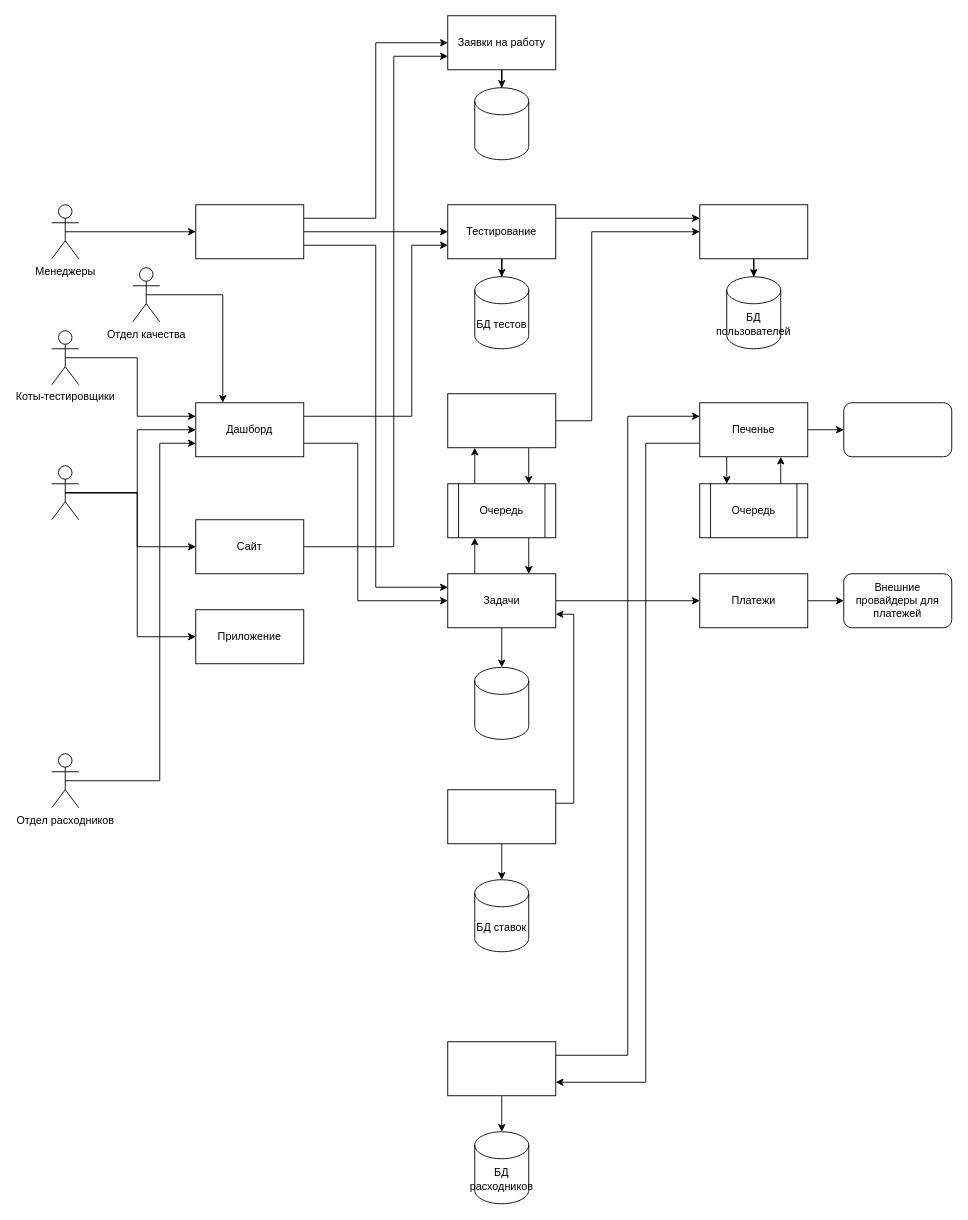
Image size: 968x1220. Some labels were removed from this diagram. Each missing label, with the centre of its shape:
Админка: (x=249, y=231)
БД задач: (x=501, y=702)
БД заявок: (x=501, y=123)
Внешний провайдер печенья: (x=897, y=429)
Коты воркеры: (x=65, y=492)
Матчинг-система: (x=501, y=420)
Пользователи: (x=753, y=231)
Расходники: (x=501, y=1068)
Ставки: (x=501, y=816)
